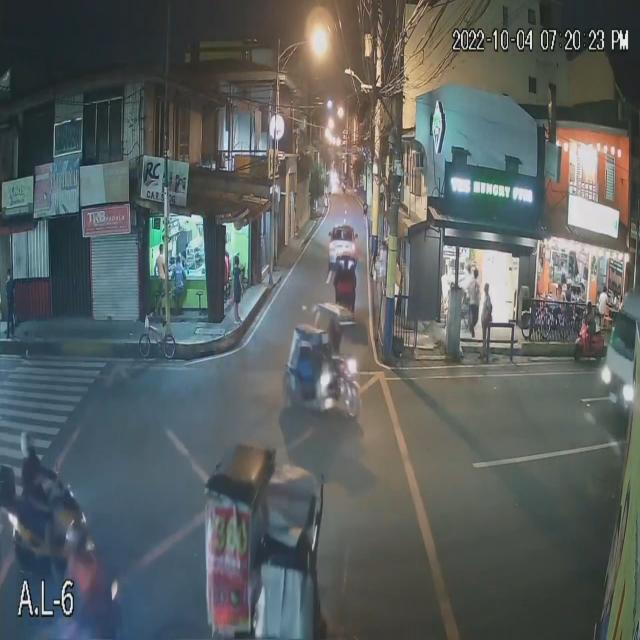Full-Faced: (15, 425, 38, 458)
